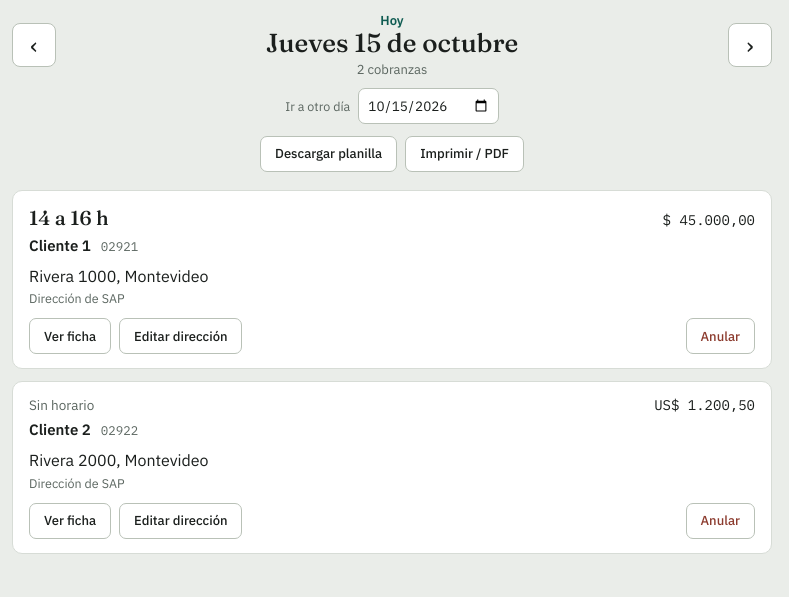
Cobranza programada: exportar › con el flag › el 503 queda junto a las acciones: SAP no respondió, reintentar
Check: the element "Cliente 1" is shown, box 12,190 -> 772,369
Click the button "Descargar planilla": [329, 154] box 260,136 -> 397,172
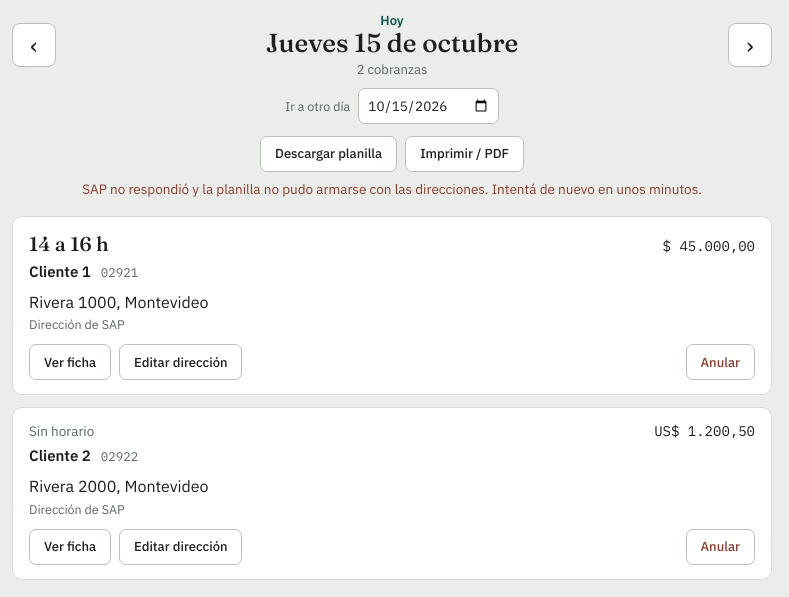
Check: the message shows "SAP no respondió", box 82,180 -> 702,198
